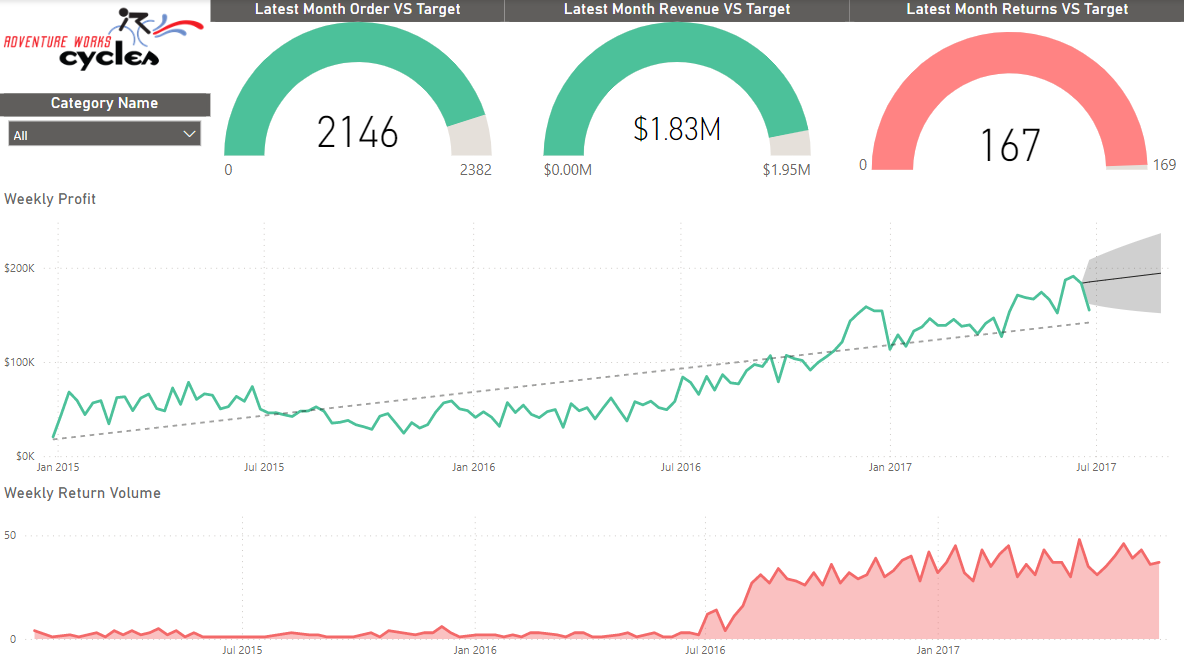

This screenshot's page, from the dashboard's own definition file:
{"tool":"powerbi","page":{"name":"Product Detail","canvas":[1280,720],"ordinal":0},"visuals":[{"type":"lineChart","title":"Weekly Profit","fields":{"Y":["AW_Sales.Total Profit"],"Category":["AW_calender_lookup.Start of Week"]},"box":[0,205,1280,317.5],"z":0},{"type":"areaChart","title":"Weekly Return Volume","fields":{"Category":["AW_calender_lookup.Start of Week"],"Y":["AW_returns.Total returns"]},"box":[0,522.5,1280,197.5],"z":1000},{"type":"image","box":[0,0,228.3,86.7],"z":2000},{"type":"gauge","title":"Latest Month Order VS Target","fields":{"Y":["AW_Sales.Total Orders"],"MaxValue":["AW_Sales.Order target"]},"box":[227.5,0,317.5,205],"z":3000},{"type":"gauge","title":"Latest Month Revenue VS Target","fields":{"Y":["AW_Sales.Revenue!!"],"MaxValue":["AW_Sales.Revenue Target"]},"box":[545,0,372.5,205],"z":4000},{"type":"gauge","title":"Latest Month Returns VS Target","fields":{"Y":["AW_returns.Total returns"],"MaxValue":["AW_returns.Previous month returns"]},"box":[917.5,0,362.5,205],"z":5000},{"type":"slicer","title":"Category Name","fields":{"Values":["AW_Product_Category_Lookup.CategoryName"]},"box":[0,102,228,62],"z":6000}]}

Visuals, with their boxes in screenshot pixels (x1, y1, x2, y2), scaled from the page's 1280x720 canvas onto the 1184x665 screenshot:
"Weekly Profit" lineChart: rect(0, 189, 1183, 483)
"Weekly Return Volume" areaChart: rect(0, 483, 1183, 664)
image: rect(0, 0, 211, 80)
"Latest Month Order VS Target" gauge: rect(210, 0, 504, 189)
"Latest Month Revenue VS Target" gauge: rect(504, 0, 849, 189)
"Latest Month Returns VS Target" gauge: rect(849, 0, 1183, 189)
"Category Name" slicer: rect(0, 94, 211, 151)
